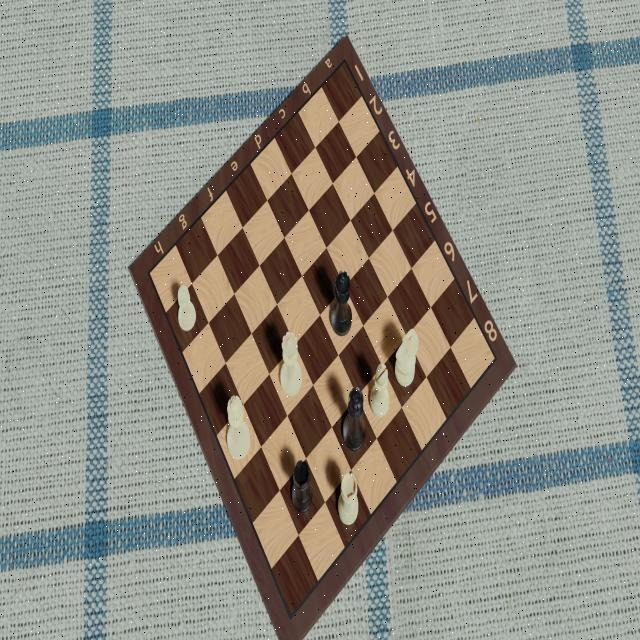black-king: (341, 380, 367, 453)
black-queen: (329, 269, 355, 338)
black-rook: (289, 456, 315, 518)
white-bishop: (368, 362, 391, 419)
white-king: (224, 391, 252, 463)
white-knight: (392, 326, 420, 389)
white-pawn: (176, 281, 199, 335)
white-queen: (280, 328, 304, 399)
white-rook: (336, 467, 362, 529)
